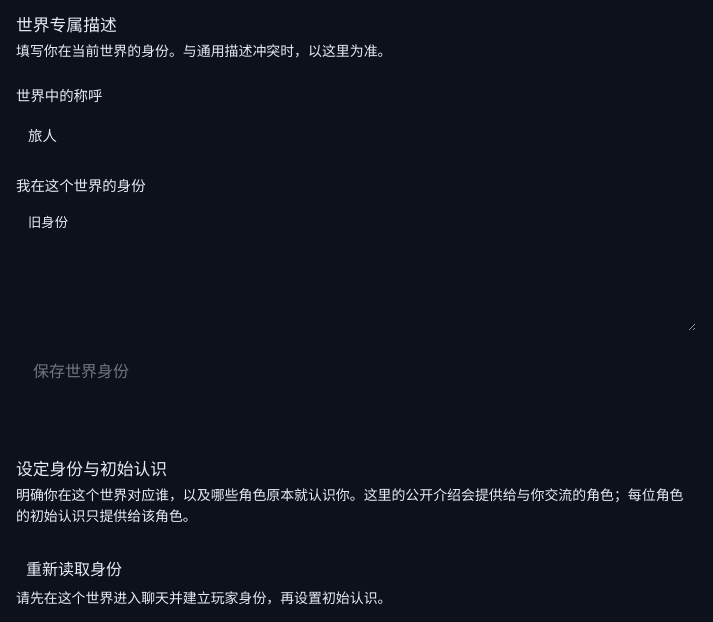
Scenario: saves the selected world's description with its loaded edit revision
Replace the text in the text box labelled "我在这个世界的身份" with "新的身份" at (356, 267), box 16,203 -> 696,330
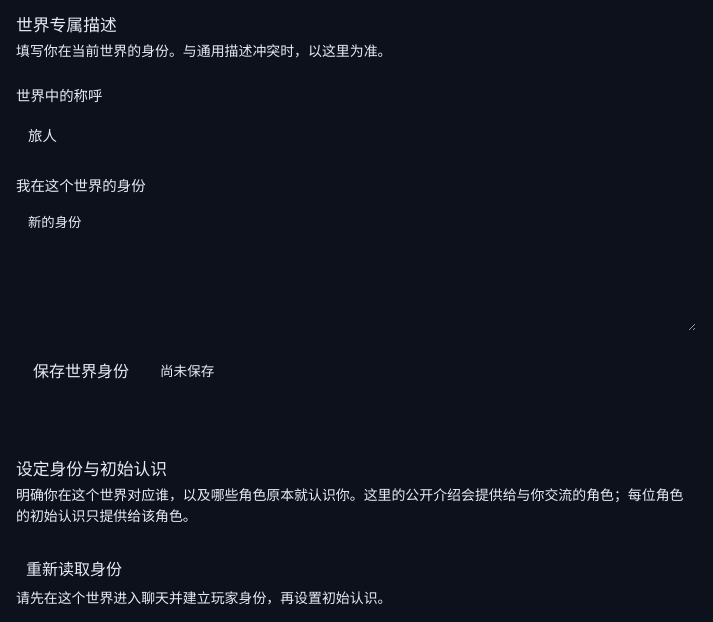
Click the button "保存世界身份" at (81, 370), box 16,348 -> 146,392
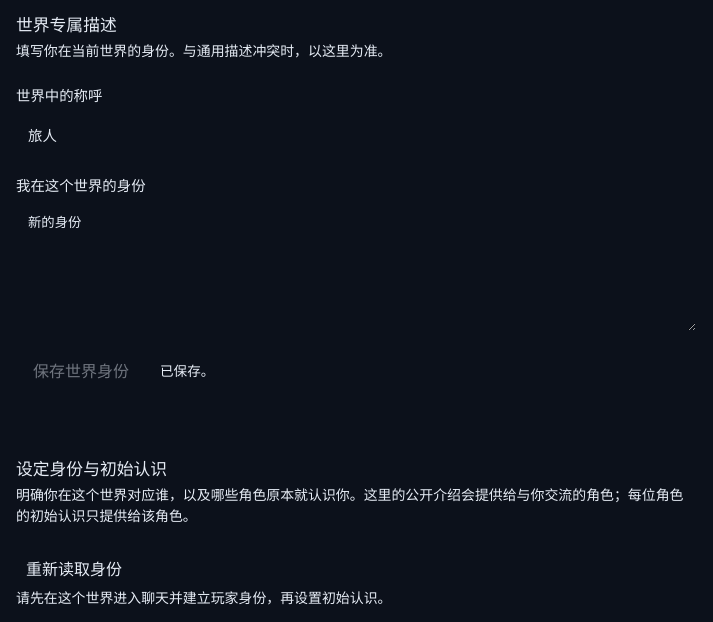
Check: the text "已保存。" is shown, box 160,360 -> 214,380
